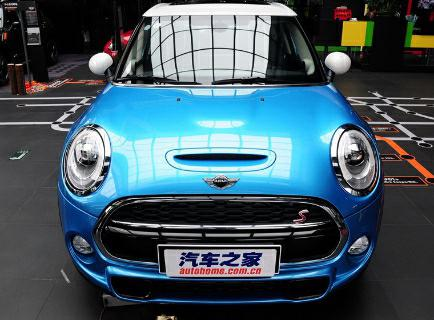MINI: (53, 4, 392, 319)
